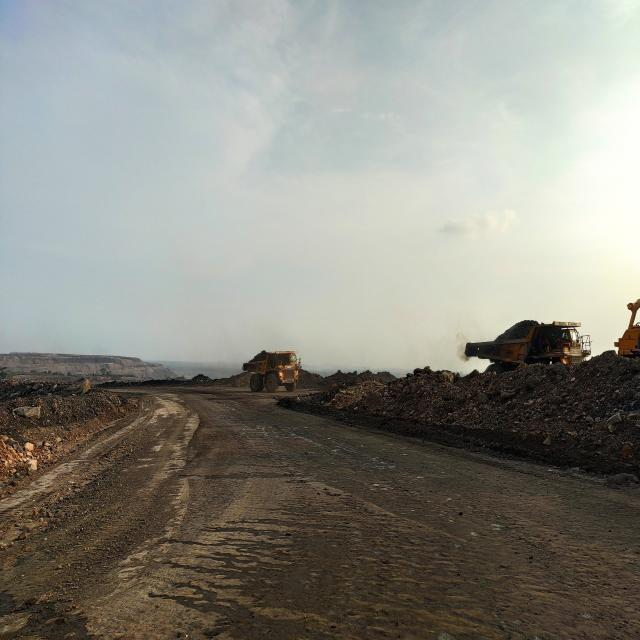dump_truck: (464, 320, 590, 373), (242, 350, 300, 392)
